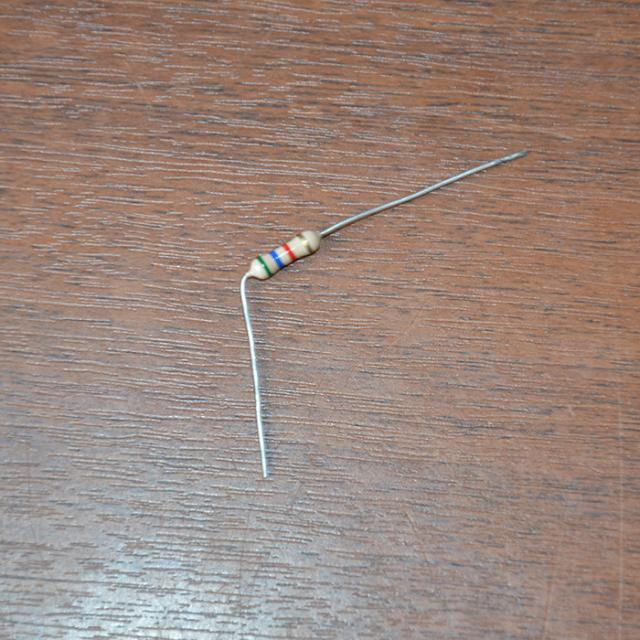blue: (269, 251, 283, 267)
gold: (296, 232, 313, 253)
green: (256, 256, 272, 274)
red: (282, 244, 295, 261)
resistor: (238, 228, 326, 285)
